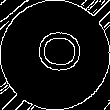O_W: (28, 31, 82, 79)
